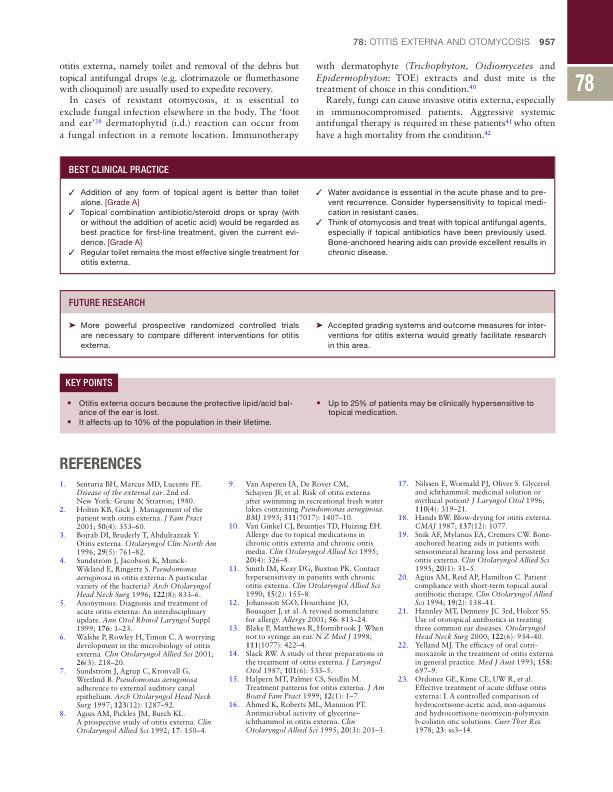caption: (68, 165, 170, 175), (68, 298, 146, 307), (65, 378, 113, 387)
header: (352, 36, 531, 47)
list: (226, 478, 387, 735), (58, 479, 217, 736), (397, 479, 555, 735), (66, 187, 301, 267), (313, 186, 547, 257), (314, 319, 548, 350), (67, 320, 301, 350), (65, 398, 294, 428), (315, 397, 536, 419)
section-heading: (58, 455, 143, 472)
text: (58, 60, 300, 142), (315, 60, 556, 142)
